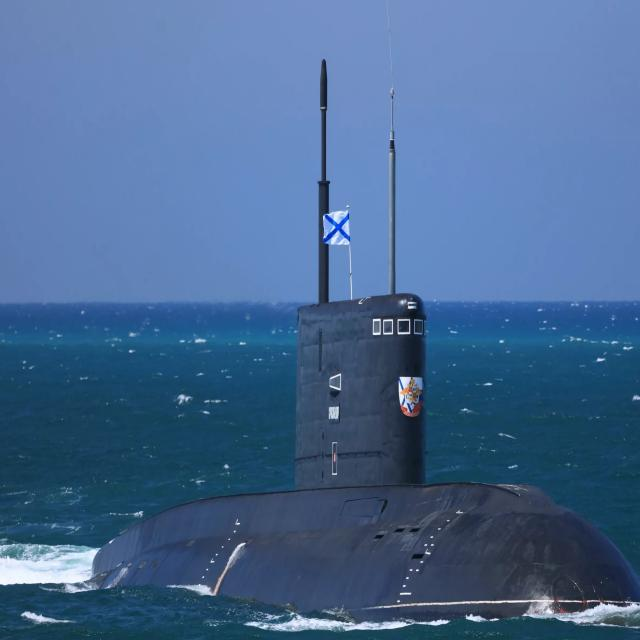submarine: (87, 51, 640, 631)
